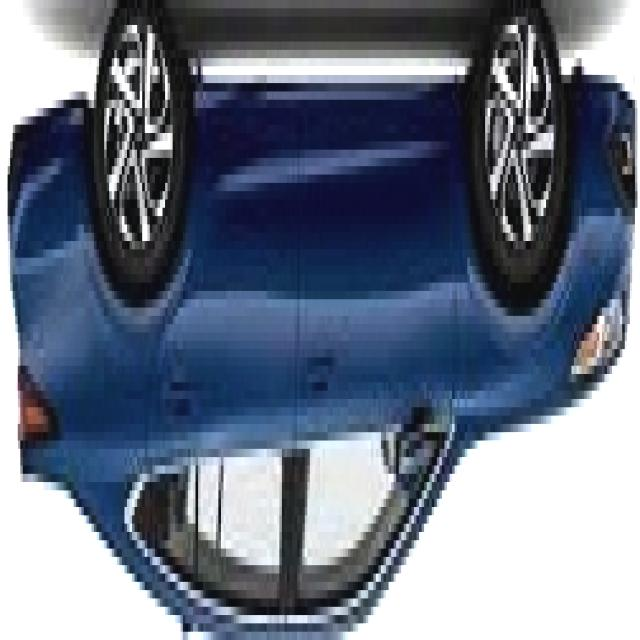blue: (8, 0, 640, 639)
